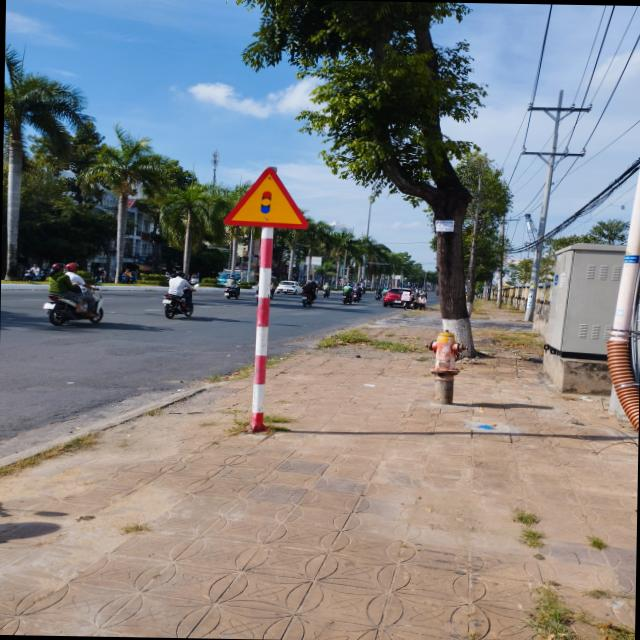Duong_Co_Go_Giam_Toc: (222, 166, 308, 228)
